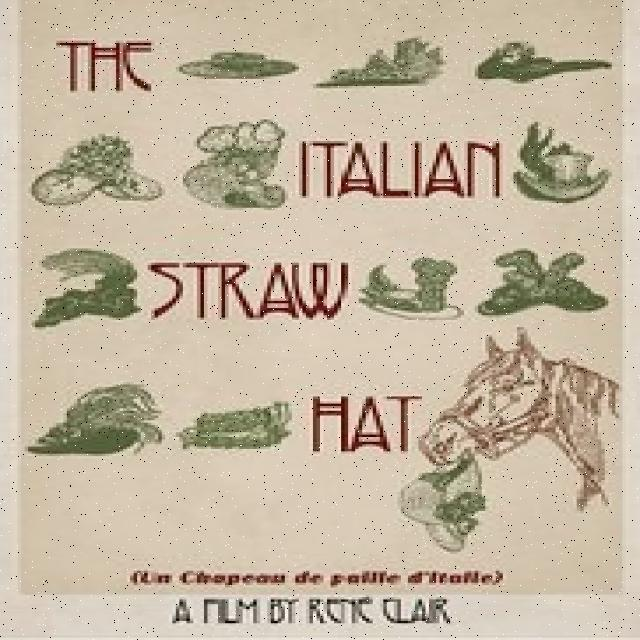movie-judul: (32, 24, 510, 457)
picture: (20, 0, 626, 628)
